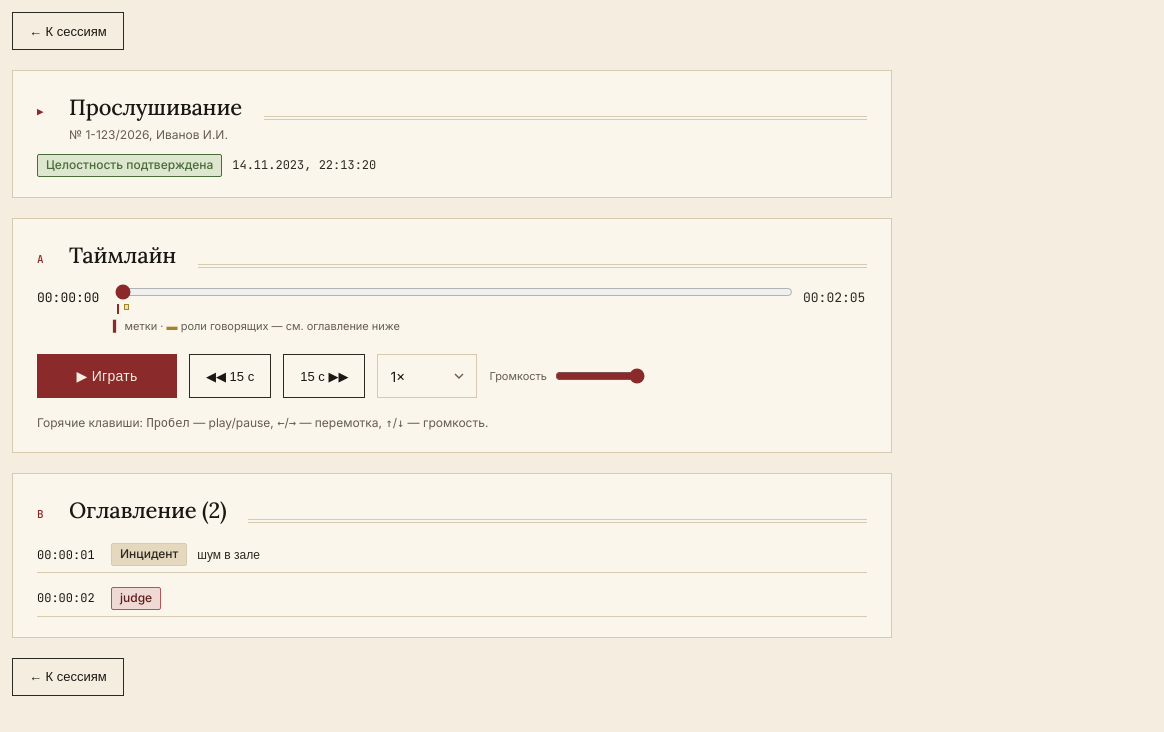
Test: PlaybackScreen › переход по оглавлению до старта воспроизведения сдвигает позицию (эмулируем эмит бэкендом player_position)
Click the text "Инцидент" at (149, 555), box [111,543,187,566]
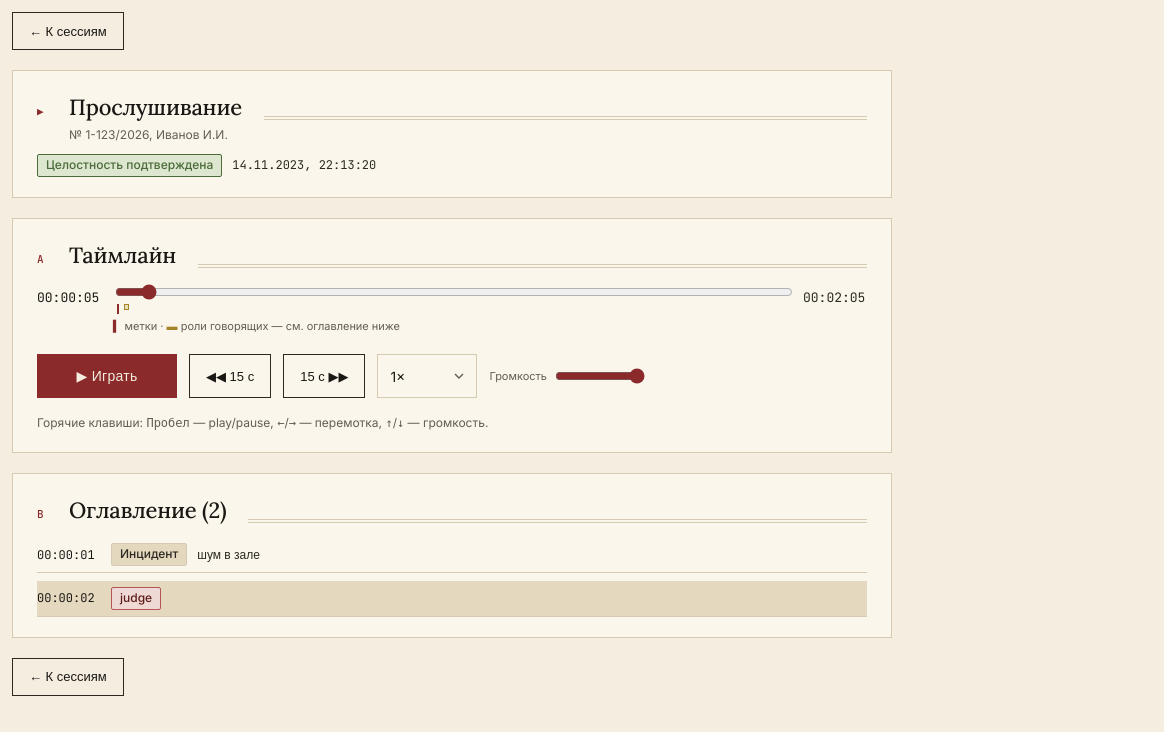
Expected: the text "00:00:05" is shown, [37,288,101,308]
